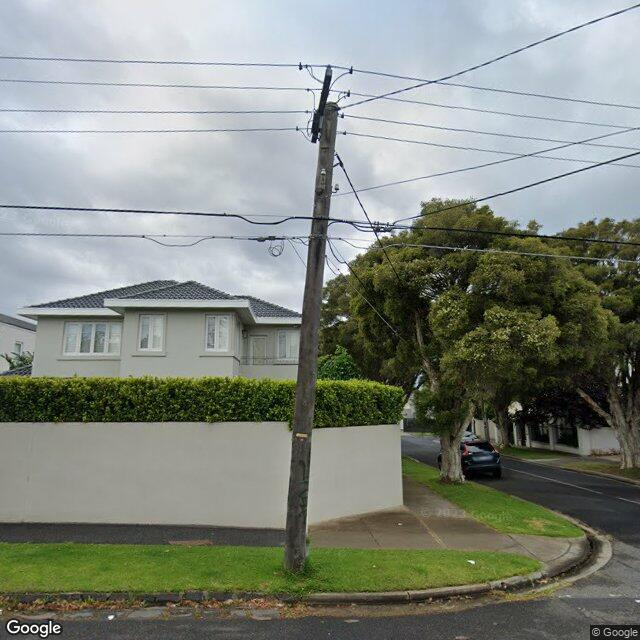crossarm: (296, 62, 353, 144)
timber-pole: (282, 101, 340, 573)
